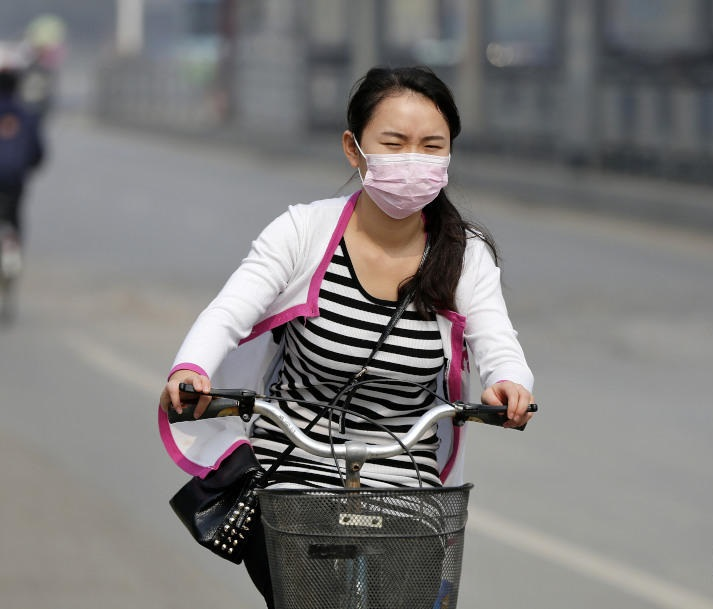face_mask: (358, 95, 451, 209)
